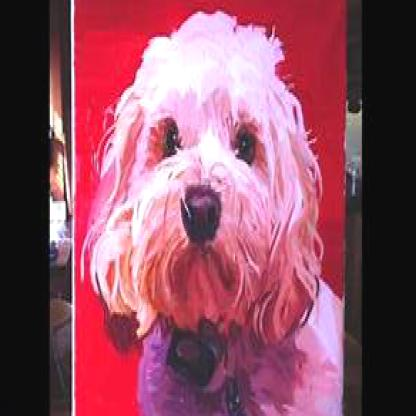dog: (90, 12, 346, 414)
